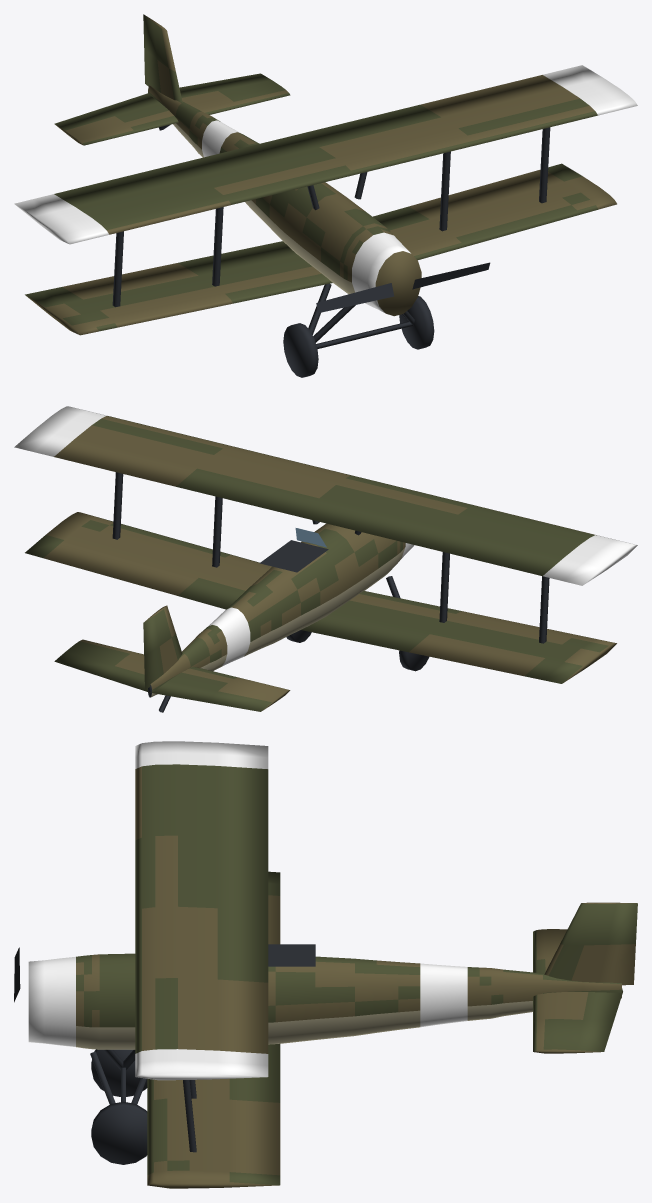
The model's file is spad_s13.glb.
3 views of the same model, one above another, from view 1: azimuth 30°, elevation 25°; view 2: azimuth 150°, elevation 25°; view 3: azimuth 270°, elevation 25° (orthographic). The views are drawn at different scales.
Parts seen in each view (by area): view 1: body, prop; view 2: body; view 3: body.
Boxes of the visible parts, x1,y1,x2,y2 form: body: (14,14,637,377); prop: (316,262,490,312); body: (14,406,637,712); body: (28,741,637,1188).
Bounding box in the file's own units: 8.25 × 2.62 × 6.57.
